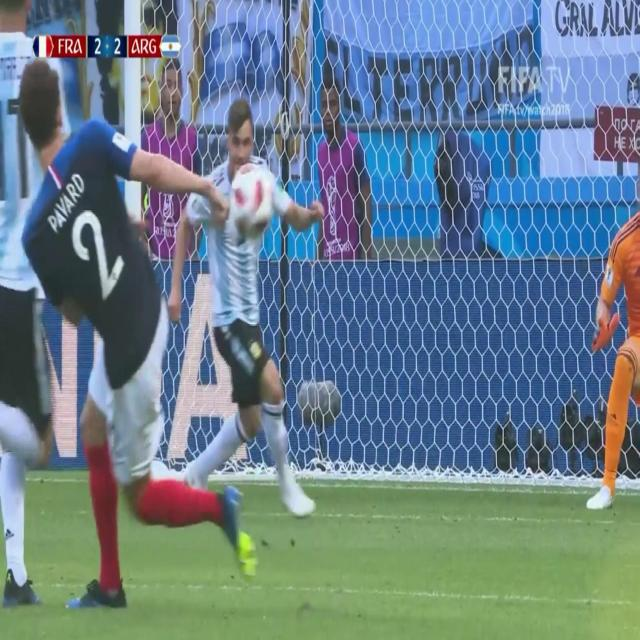ball: (228, 160, 276, 243)
player: (21, 38, 228, 600), (167, 77, 321, 558), (0, 0, 70, 622), (585, 158, 639, 520)
